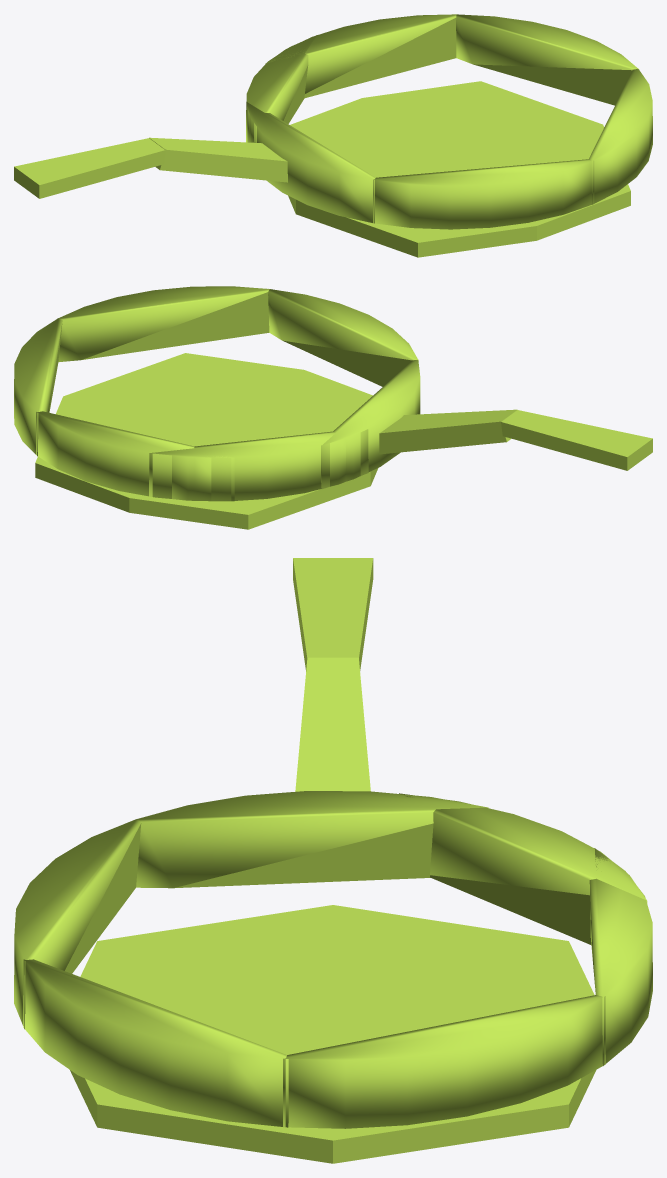
File: Frying_pan_convex.fbx
3 views of the same model, one above another, from view 1: azimuth 30°, elevation 25°; view 2: azimuth 150°, elevation 25°; view 3: azimuth 270°, elevation 25° (orthographic). The views are drawn at different scales.
Visible parts, largest first — view 1: Frying_pan_convex.008, Frying_pan_convex.003, Frying_pan_convex.002, Frying_pan_convex.001, Frying_pan_convex.004, Frying_pan_convex, Frying_pan_convex.006, Frying_pan_convex.007, Frying_pan_convex.005; view 2: Frying_pan_convex.008, Frying_pan_convex, Frying_pan_convex.005, Frying_pan_convex.001, Frying_pan_convex.003, Frying_pan_convex.004, Frying_pan_convex.006, Frying_pan_convex.007, Frying_pan_convex.002; view 3: Frying_pan_convex.008, Frying_pan_convex.002, Frying_pan_convex.004, Frying_pan_convex, Frying_pan_convex.005, Frying_pan_convex.003, Frying_pan_convex.001, Frying_pan_convex.007, Frying_pan_convex.006.
Boxes of the visible parts, x1,y1,x2,y2 form: Frying_pan_convex.008: [288, 81, 630, 257]; Frying_pan_convex.003: [373, 159, 594, 229]; Frying_pan_convex.002: [456, 14, 638, 105]; Frying_pan_convex.001: [265, 14, 457, 98]; Frying_pan_convex.004: [246, 101, 375, 223]; Frying_pan_convex: [589, 69, 652, 204]; Frying_pan_convex.006: [14, 138, 165, 198]; Frying_pan_convex.007: [149, 137, 287, 182]; Frying_pan_convex.005: [246, 35, 316, 142]; Frying_pan_convex.008: [35, 353, 378, 529]; Frying_pan_convex: [58, 286, 270, 362]; Frying_pan_convex.005: [149, 429, 368, 501]; Frying_pan_convex.001: [36, 411, 234, 501]; Frying_pan_convex.003: [268, 289, 418, 386]; Frying_pan_convex.004: [321, 360, 420, 488]; Frying_pan_convex.006: [501, 410, 652, 470]; Frying_pan_convex.007: [379, 409, 517, 454]; Frying_pan_convex.002: [14, 318, 62, 456]; Frying_pan_convex.008: [70, 905, 596, 1163]; Frying_pan_convex.002: [283, 995, 605, 1128]; Frying_pan_convex.004: [136, 791, 488, 888]; Frying_pan_convex: [23, 959, 288, 1127]; Frying_pan_convex.005: [399, 793, 647, 944]; Frying_pan_convex.003: [14, 819, 141, 1029]; Frying_pan_convex.001: [589, 848, 652, 1065]; Frying_pan_convex.007: [295, 657, 370, 791]; Frying_pan_convex.006: [293, 558, 373, 671].
Size of the model in its own units: 13.12 by 7.72 by 2.19.
